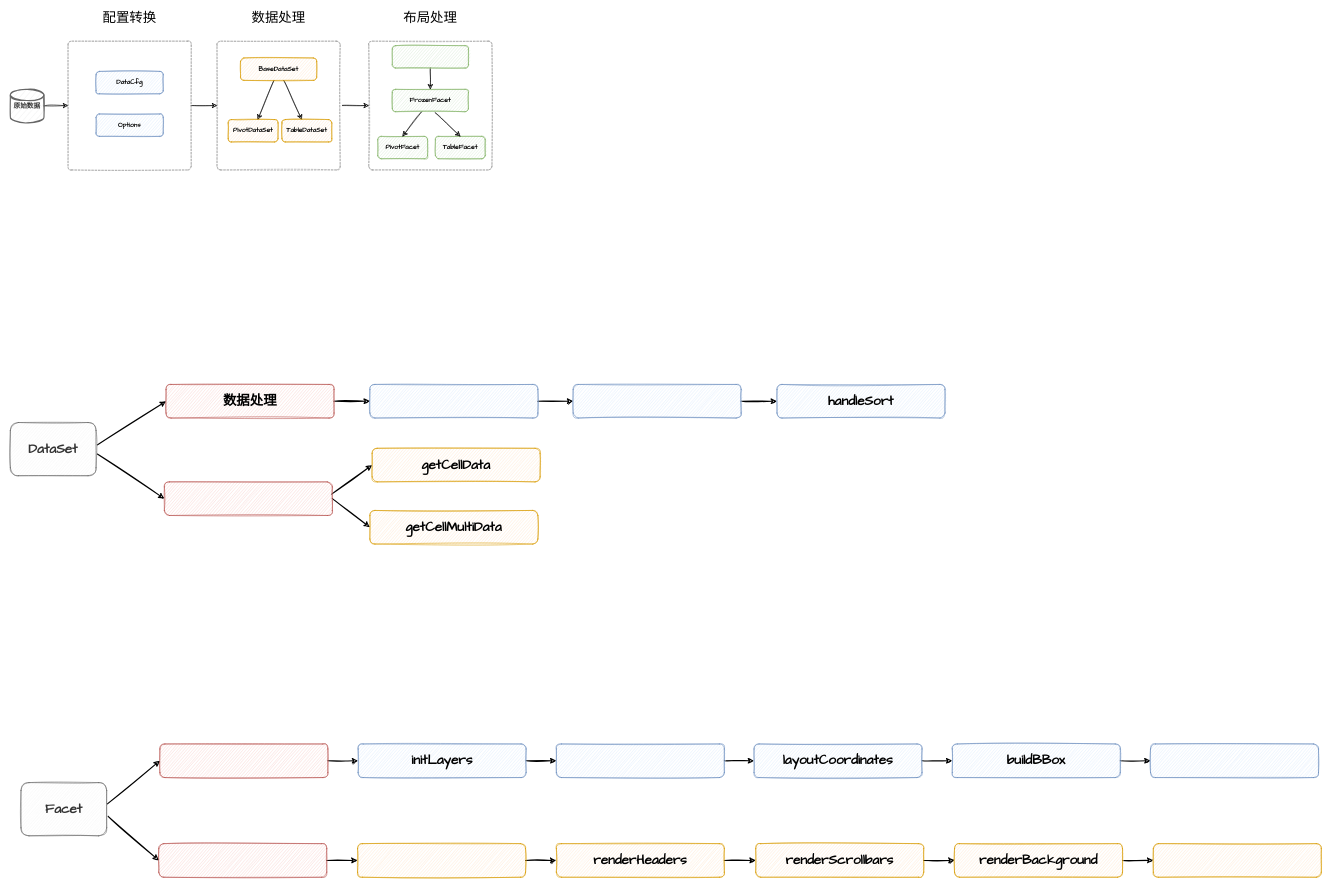
Some shapes in this 1331 by 887 pixel diagram are drawn without their labels. Each missing label, with the box of its shape:
ajustScrollOffset: (357, 843, 526, 877)
BaseFacet: (392, 45, 468, 68)
bindEvent: (1150, 743, 1319, 778)
buildHierarchy: (556, 743, 724, 778)
dynamicRenderDataCell: (1153, 843, 1321, 877)
processDataCfg: (369, 384, 538, 418)
transformIndexesData: (573, 384, 741, 418)
实时渲染（render）: (158, 843, 327, 877)
布局生成（doLayout）: (159, 743, 328, 778)
数据获取: (164, 481, 332, 515)
